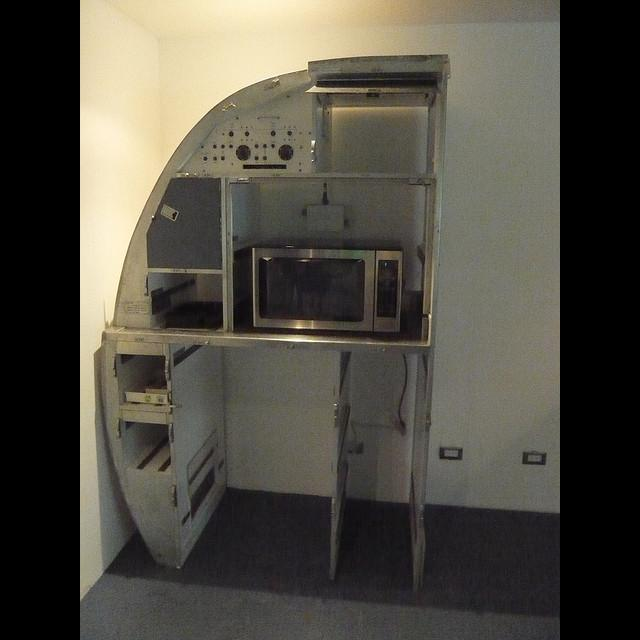Microwave: (253, 235, 403, 334)
